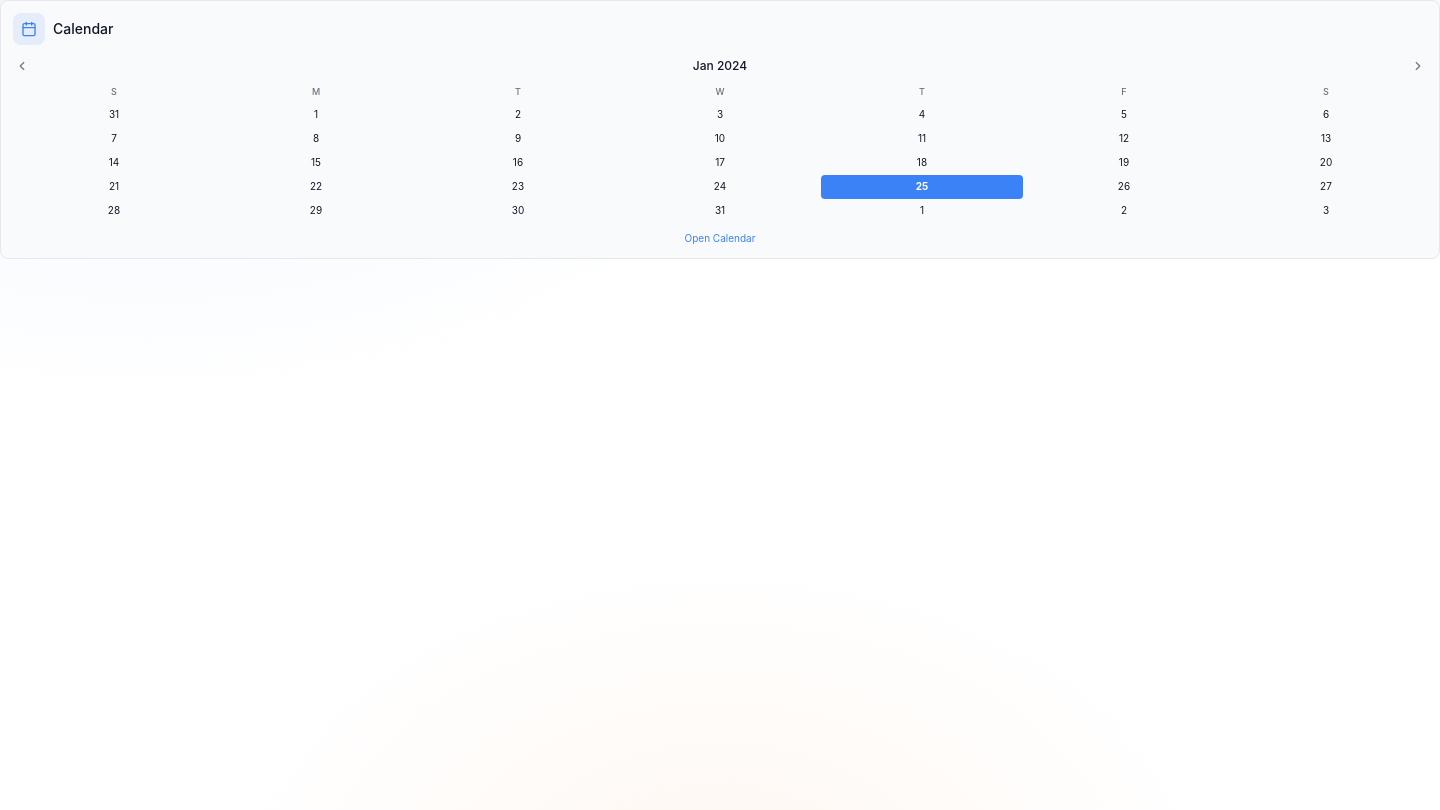
Test: MiniCalendar › Month Navigation › goes to next month when clicking right arrow
Expected: the button "Jan 2024" is shown, 693,58 -> 747,74
Click the 3rd button at [1418, 66], box 1409,57 -> 1427,75
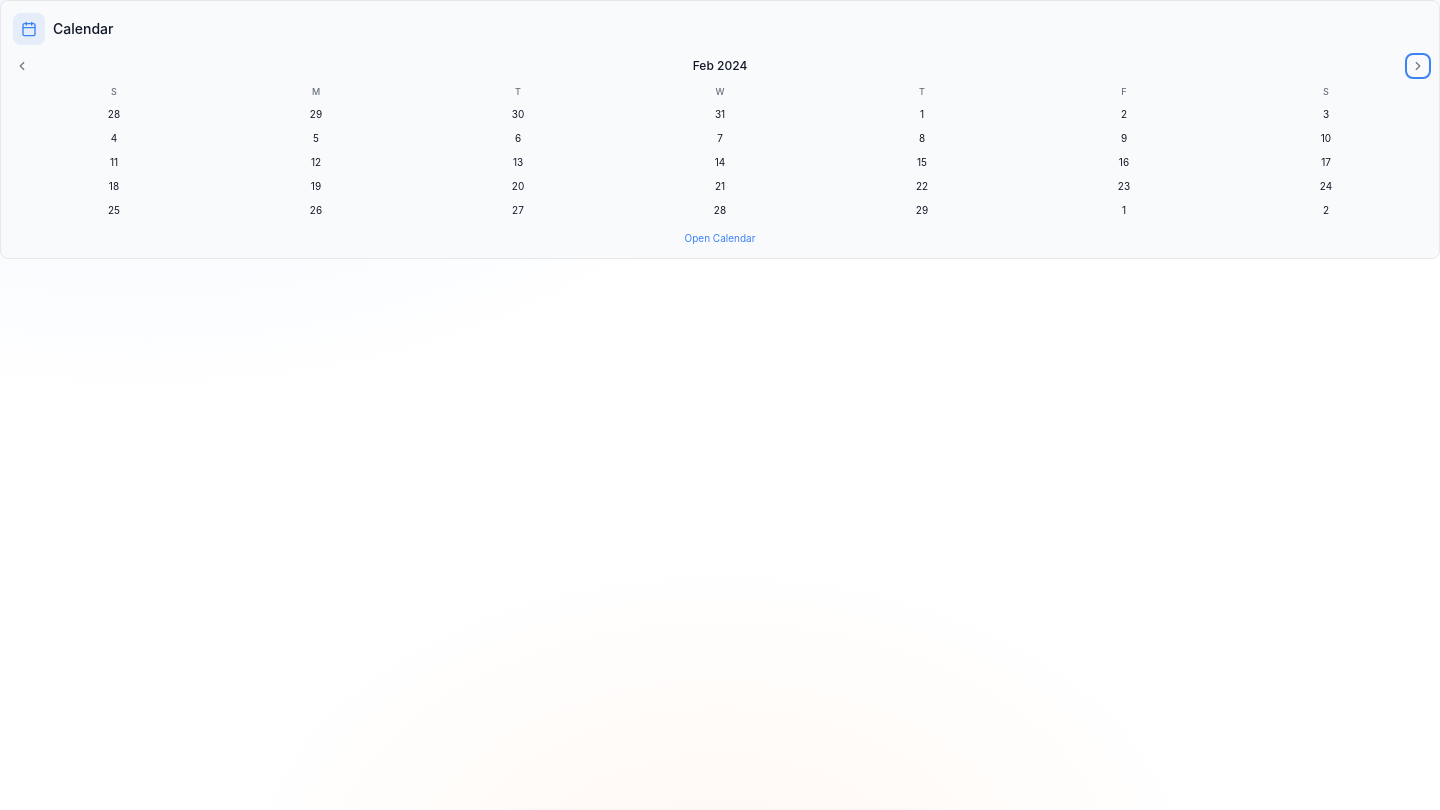
Expected: the button "Feb 2024" is shown, 693,58 -> 747,74
